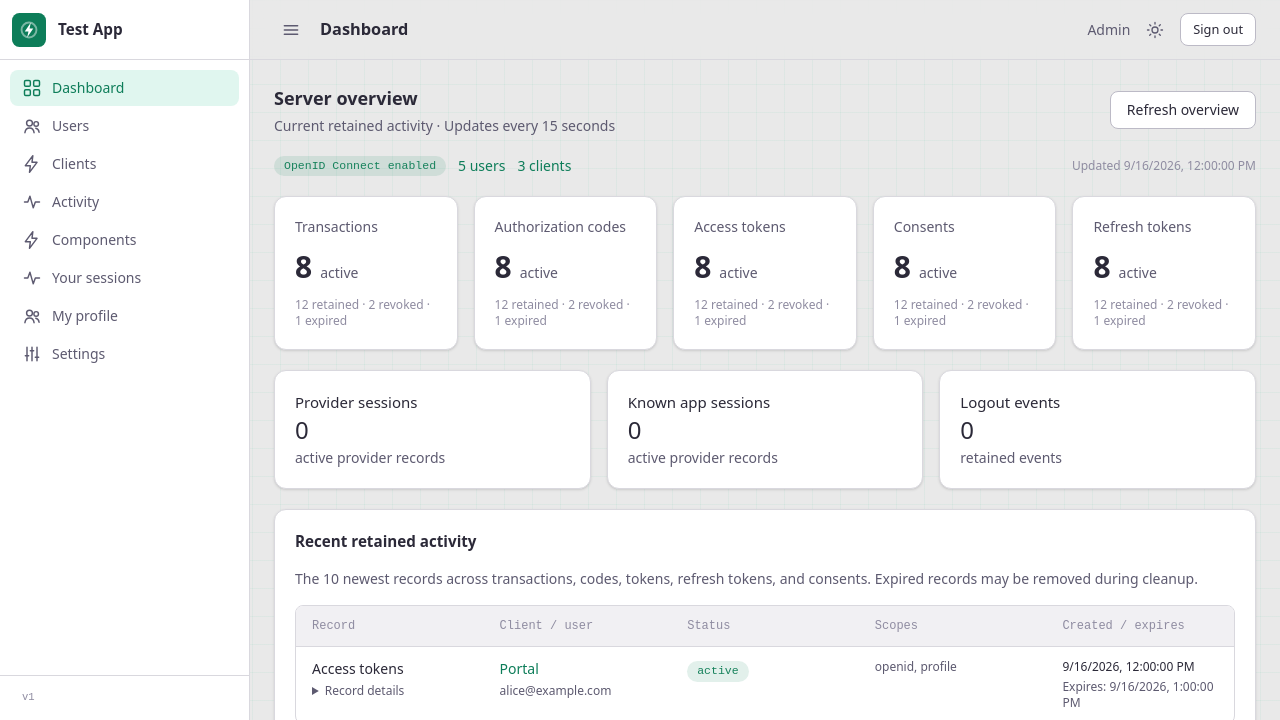
it: admin activity monitoring › shows overview counts and links to records
Expected: the link "5 users" is shown, x1=458 y1=156 x2=505 y2=176
Expected: the link "3 clients" is shown, x1=518 y1=156 x2=571 y2=176
Step 1. Click the link named "Access tokens 8 active" → (765, 273), box x1=673 y1=196 x2=857 y2=350
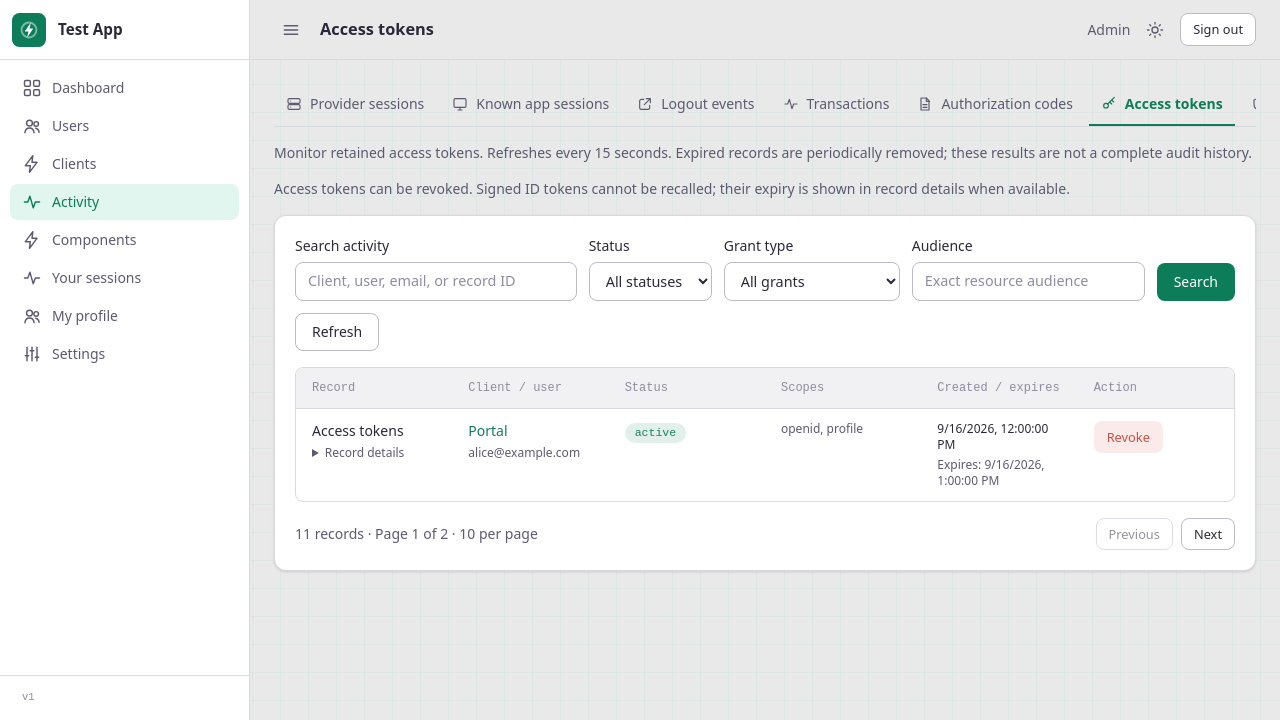
Expected: the search field labelled "Search activity" is shown, x1=295 y1=262 x2=577 y2=301
